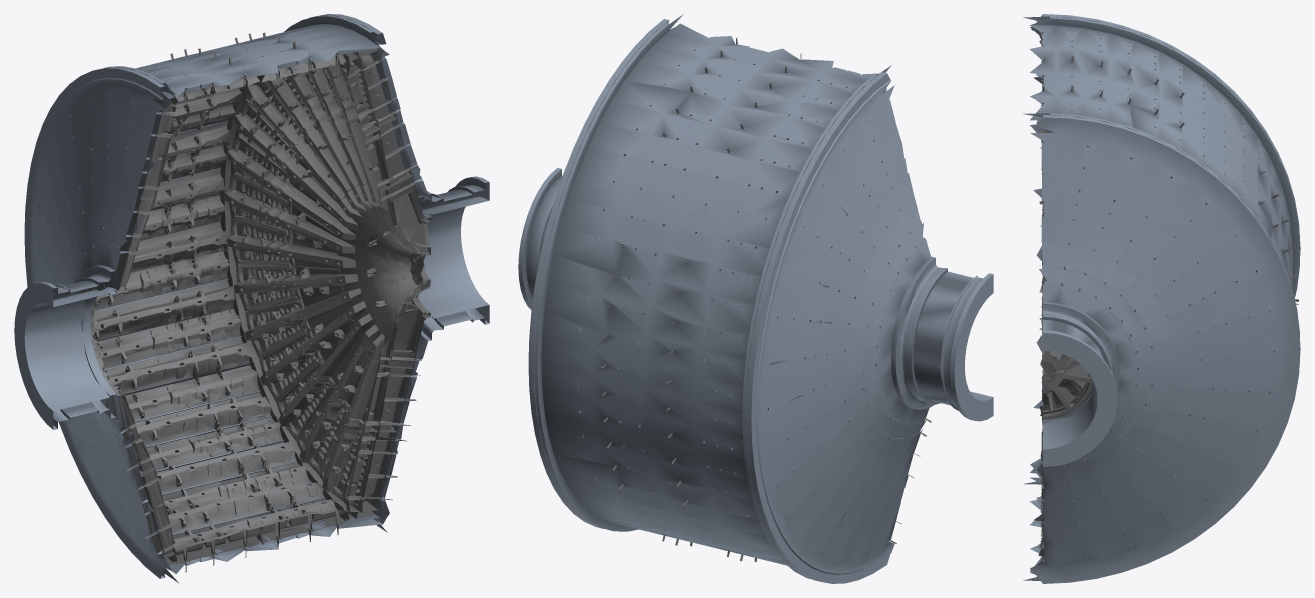
Rendered from mill-sag-cut.glb.
3 views of the same model, side by side, from view 1: azimuth 30°, elevation 25°; view 2: azimuth 150°, elevation 25°; view 3: azimuth 270°, elevation 25° (orthographic). The views are drawn at different scales.
Visible parts, largest first — view 1: metal:discharge, millBody:body, metal:shell-liners, metal:feed-liners; view 2: millBody:body, metal:shell-liners; view 3: millBody:body, metal:discharge, metal:shell-liners.
Boxes of the visible parts, bbox=[...] form: metal:discharge: bbox=[225, 49, 430, 513]; millBody:body: bbox=[14, 14, 489, 582]; metal:shell-liners: bbox=[93, 32, 378, 572]; metal:feed-liners: bbox=[78, 99, 176, 559]; millBody:body: bbox=[518, 14, 993, 583]; metal:shell-liners: bbox=[584, 37, 801, 561]; millBody:body: bbox=[1023, 14, 1300, 583]; metal:discharge: bbox=[1038, 129, 1205, 557]; metal:shell-liners: bbox=[1038, 34, 1298, 547].
Size of the model in its own units: 9.47 by 10.19 by 5.5.
Materials: 4 (4 with a texture image).
